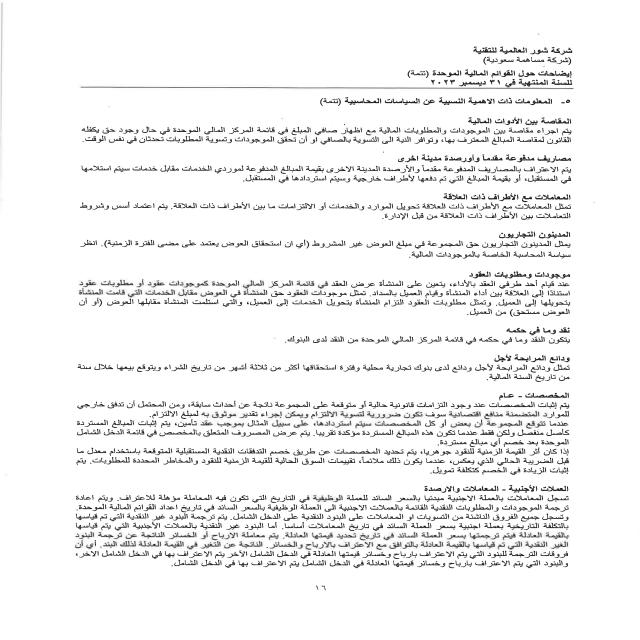notes: (370, 66, 598, 79)
text: (40, 90, 588, 576)
